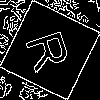R: (25, 25, 79, 74)
